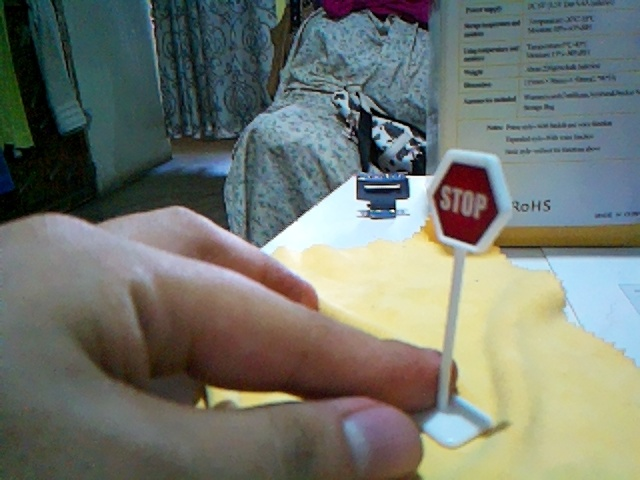stop_sign: (427, 149, 511, 251)
